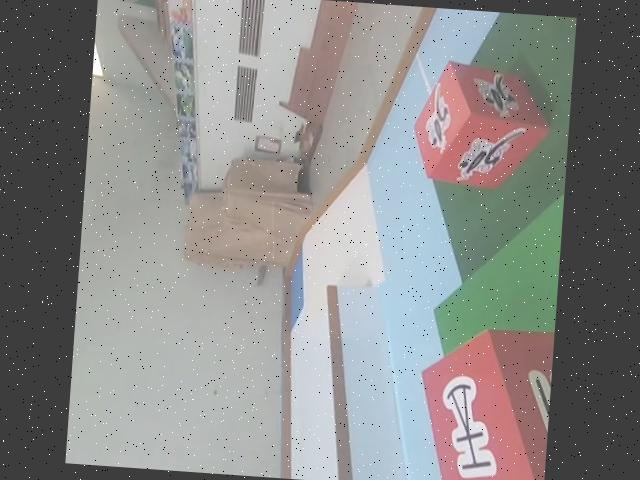R1: (409, 59, 549, 192)
R2 Real: (411, 322, 554, 480)
